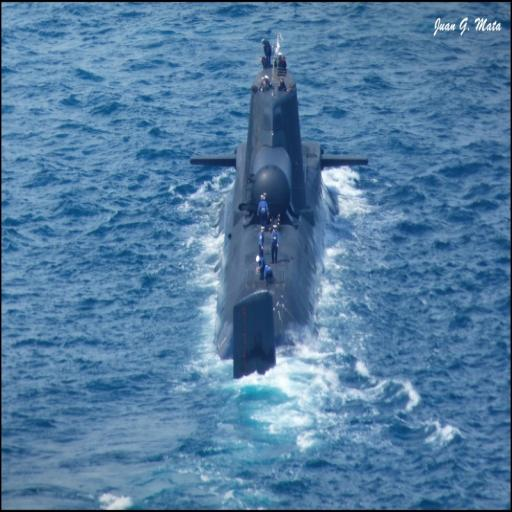submarine: (191, 29, 371, 389)
